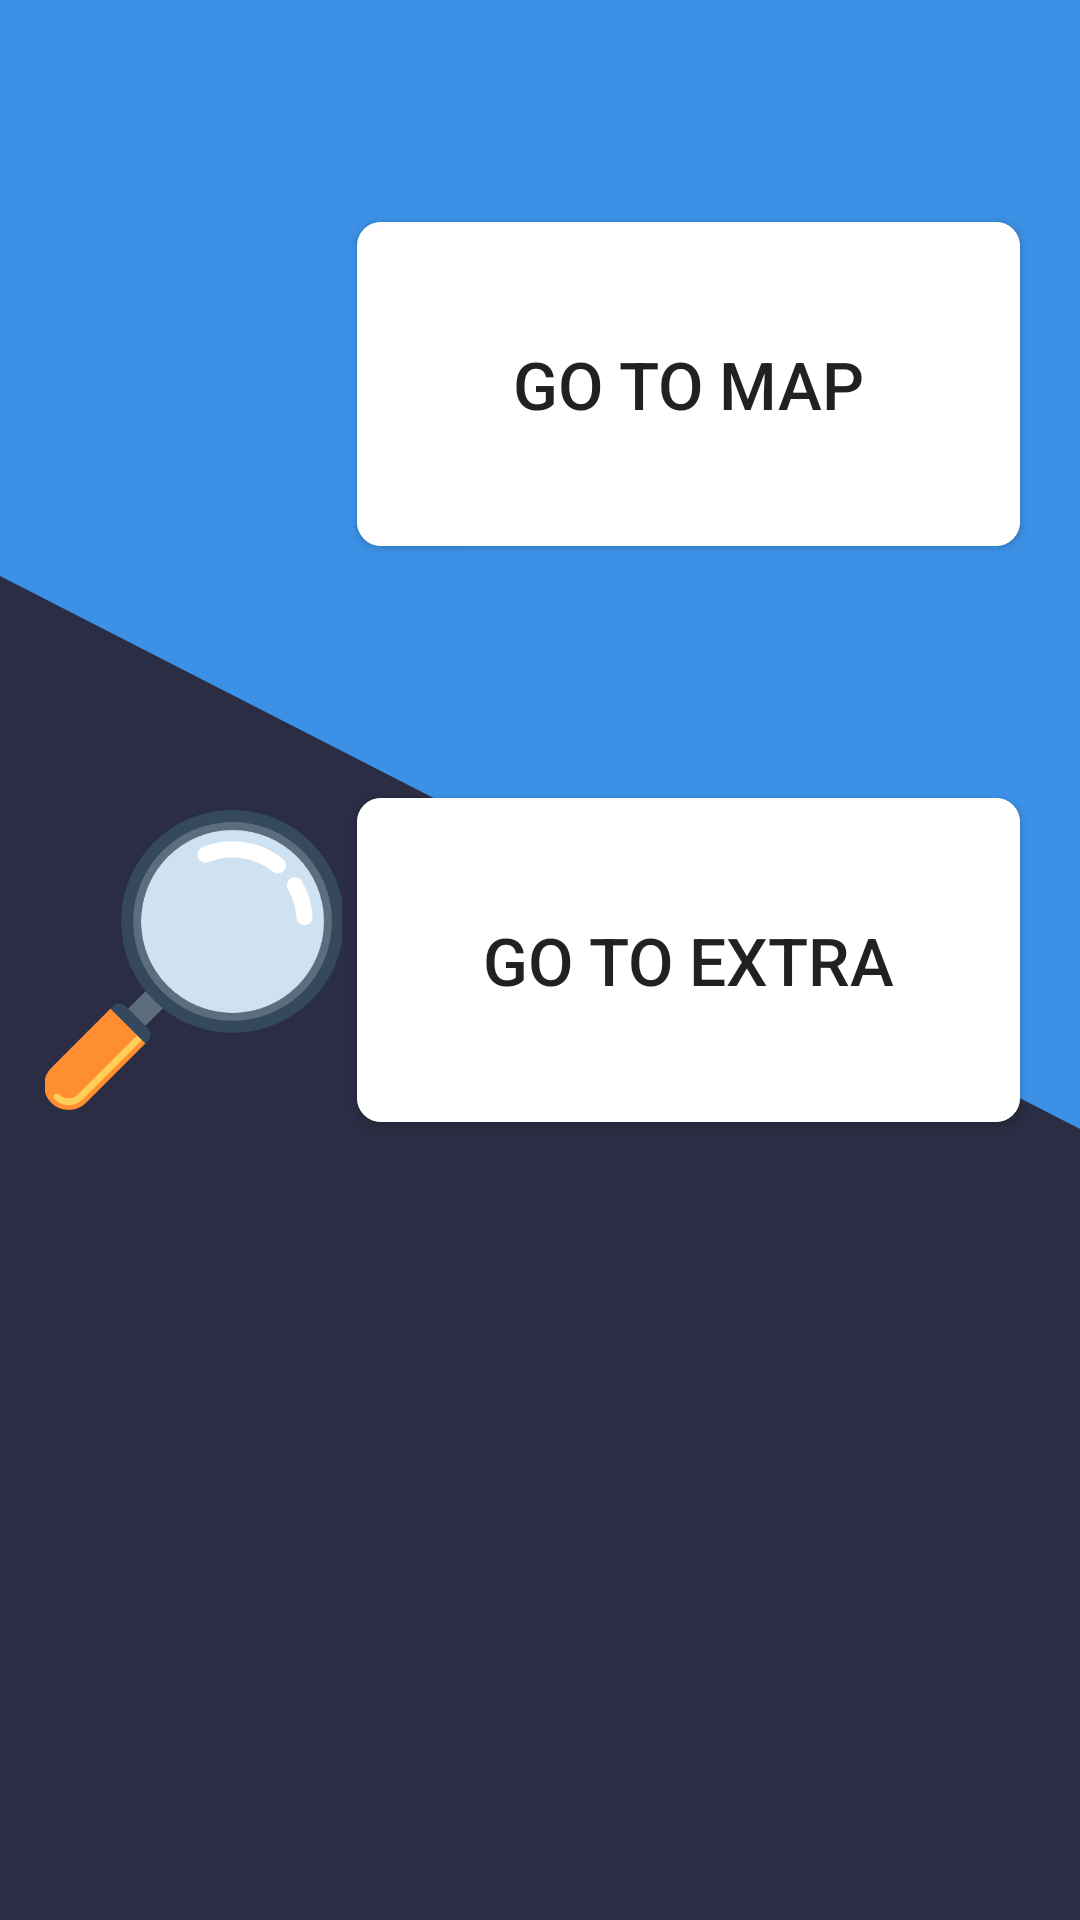

Icon bounding boxes for this 1080x1920 phone screenshot, format (x1, y1, x2, y2):
search extra: (45, 810, 342, 1110)
